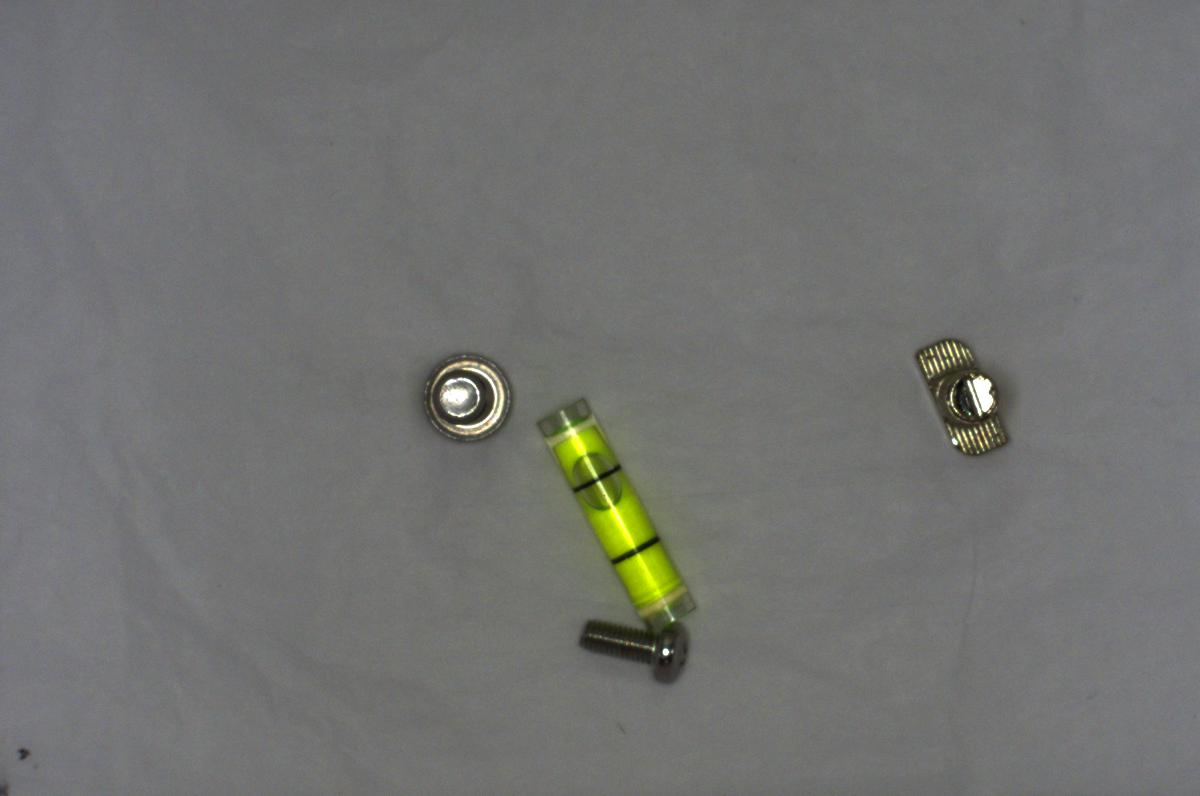Hexagon screw: (412, 353, 518, 442)
Horizontal bubble: (535, 389, 692, 628)
Round head screw: (566, 610, 700, 686)
T-shaped screw: (898, 329, 1019, 465)
